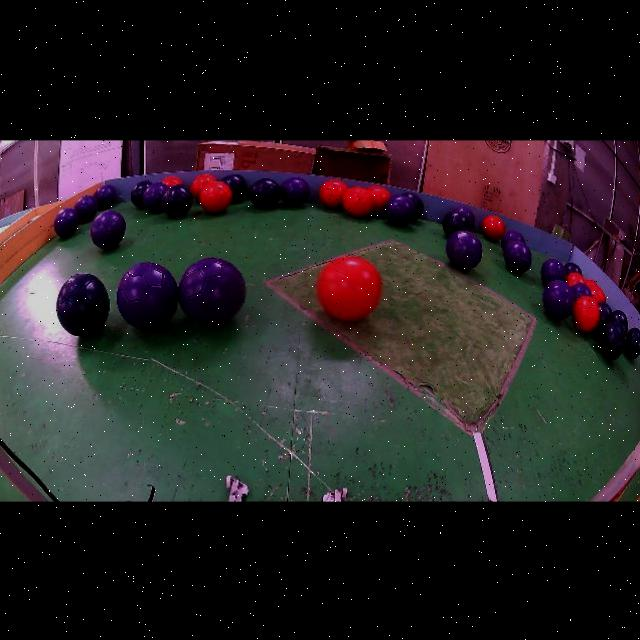B: (57, 274, 110, 337), (162, 184, 193, 217), (599, 323, 626, 360), (250, 178, 281, 210), (442, 211, 471, 237), (222, 174, 246, 203), (593, 303, 612, 337), (130, 181, 152, 208), (402, 192, 423, 220), (611, 310, 628, 337), (626, 328, 640, 359), (564, 262, 582, 275)
P: (178, 259, 246, 327), (116, 262, 178, 330), (446, 231, 483, 270), (90, 210, 125, 250), (543, 280, 574, 320), (384, 194, 416, 226), (504, 241, 532, 274), (280, 178, 310, 206), (143, 182, 168, 213), (54, 207, 79, 238), (540, 259, 567, 286), (75, 196, 98, 223), (94, 184, 116, 210), (454, 206, 475, 230), (501, 231, 525, 251), (572, 284, 592, 301)
R: (316, 256, 382, 322), (199, 182, 232, 213), (573, 296, 599, 333), (343, 187, 374, 217), (319, 179, 348, 208), (368, 186, 391, 215), (191, 174, 217, 199), (481, 216, 505, 242), (584, 280, 606, 302), (589, 286, 606, 302), (566, 272, 584, 286), (162, 177, 183, 188)
